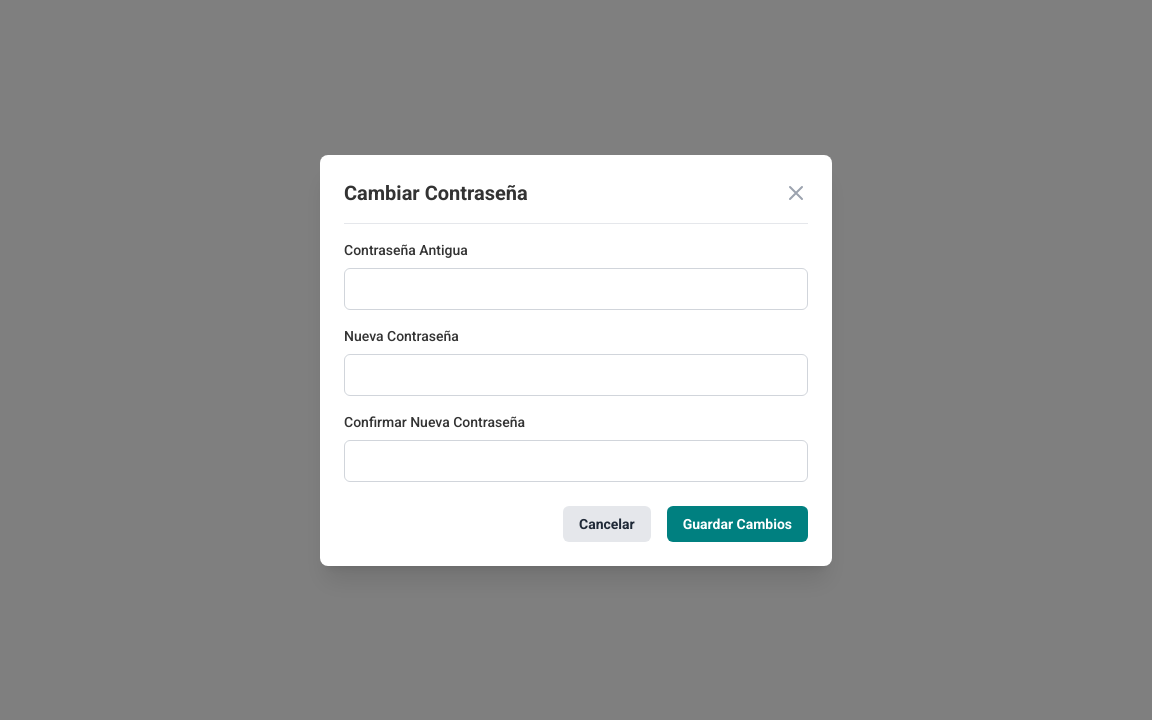
Test: ChangePasswordModal › debería mostrar un error si la nueva contraseña es muy corta
Type "oldpass" into the password field labelled "Contraseña Antigua" at coordinates (576, 288), box left=344, top=268, right=808, bottom=310
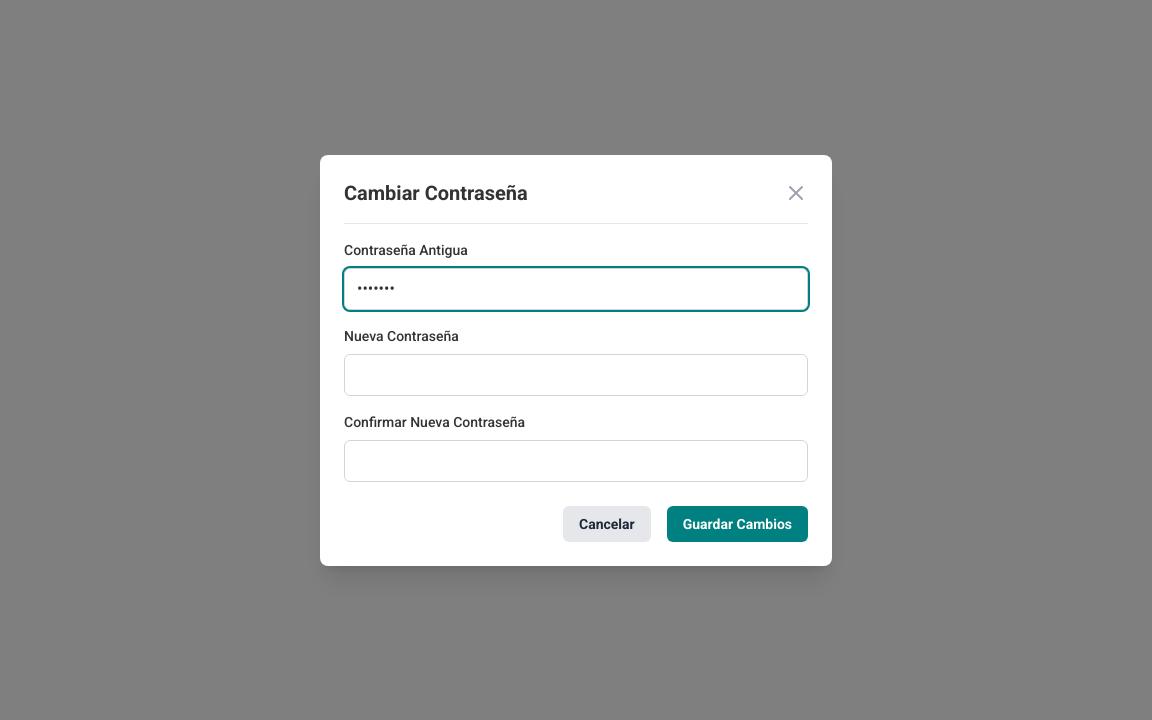
Type "short" into the password field labelled "Nueva Contraseña" at coordinates (576, 374), box left=344, top=354, right=808, bottom=396
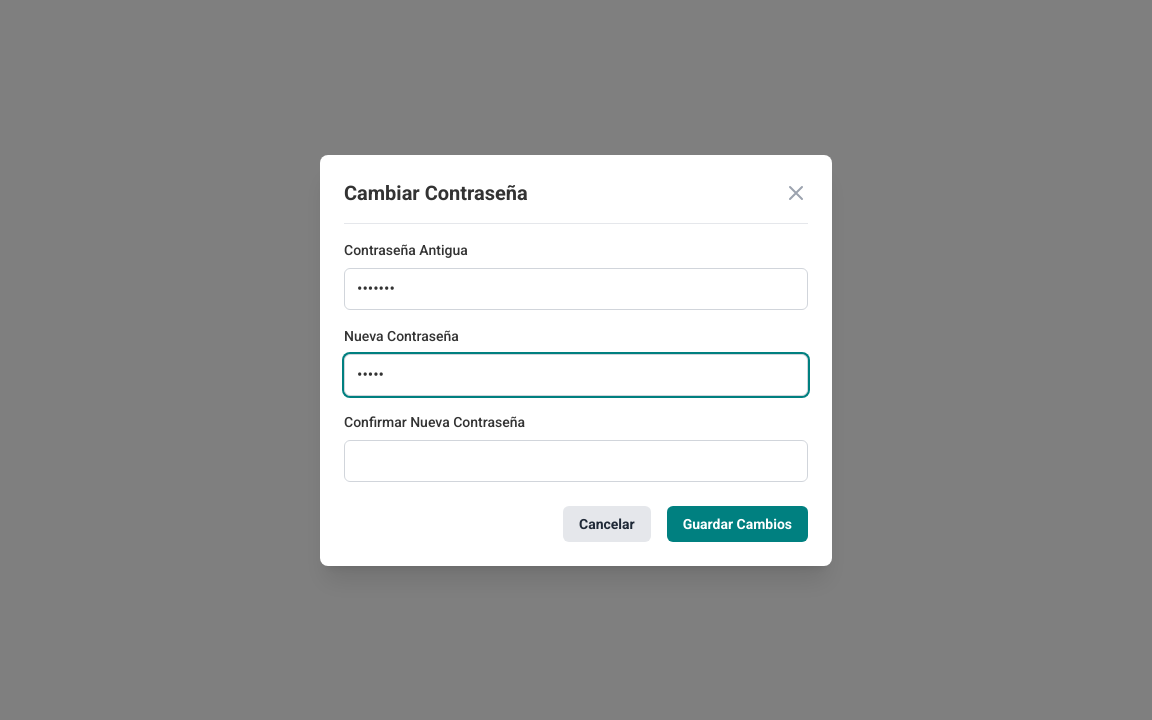
Type "short" into the password field labelled "Confirmar Nueva Contraseña" at coordinates (576, 460), box left=344, top=440, right=808, bottom=482
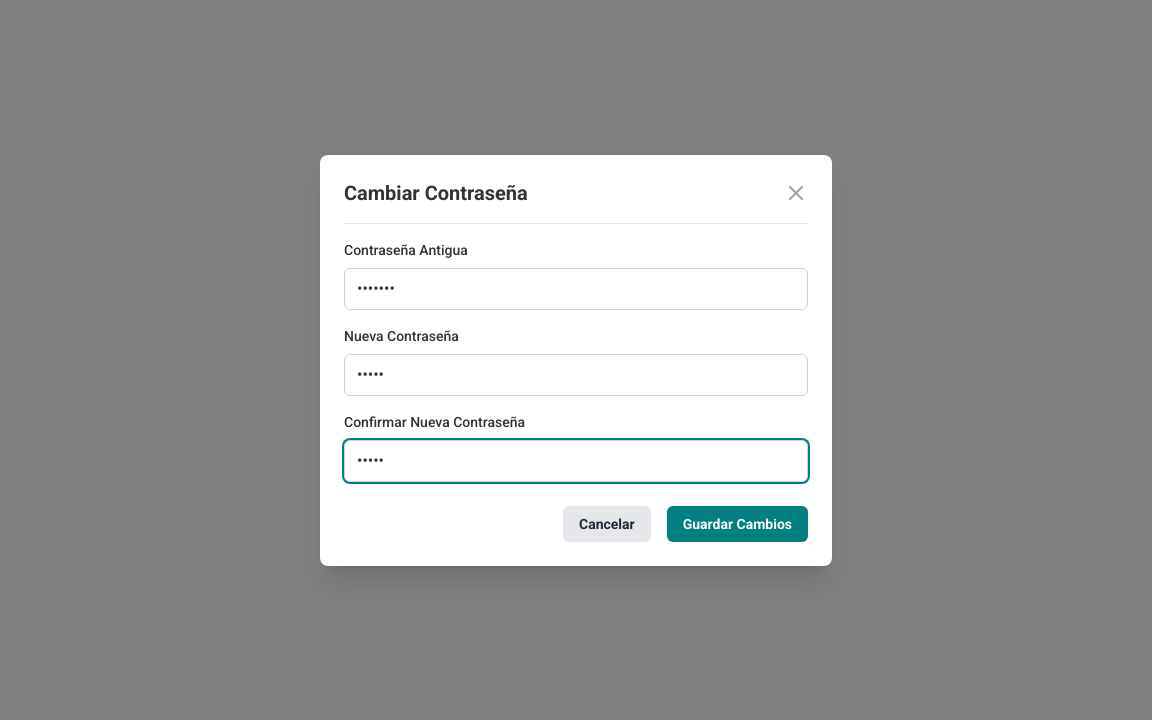
Click the button "Guardar Cambios" at coordinates (737, 524), box left=667, top=506, right=808, bottom=542
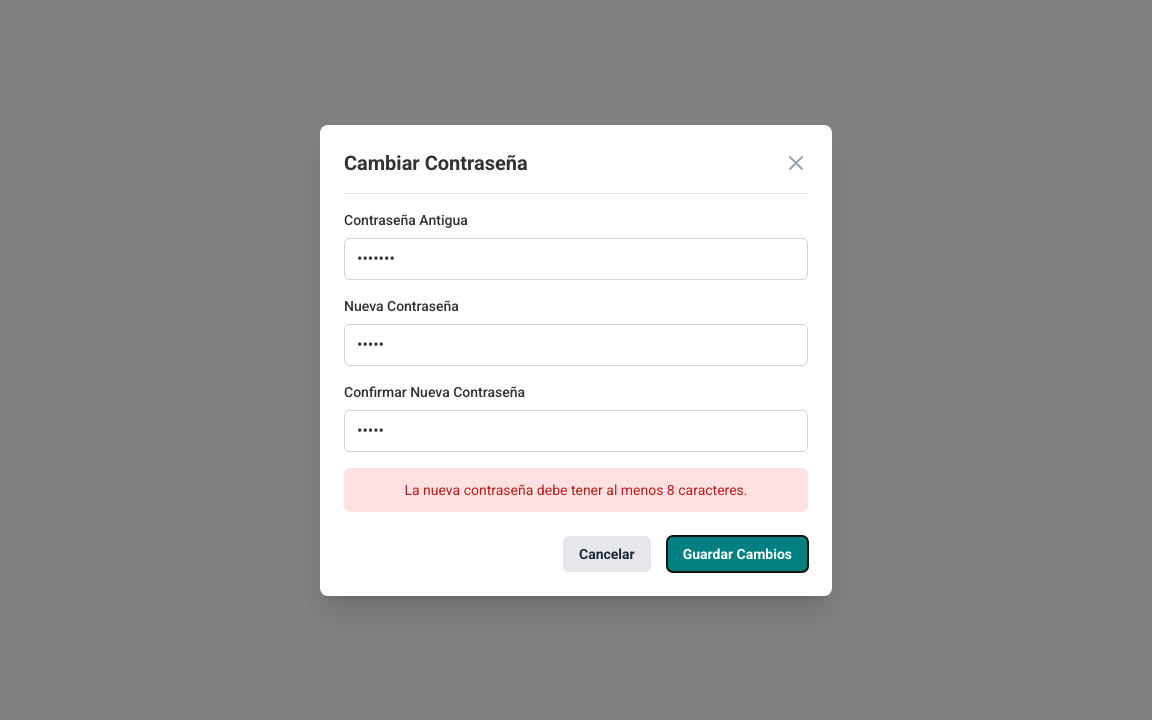
Now the text "La nueva contraseña debe tener al menos 8 caracteres." is shown, box left=344, top=468, right=808, bottom=512
